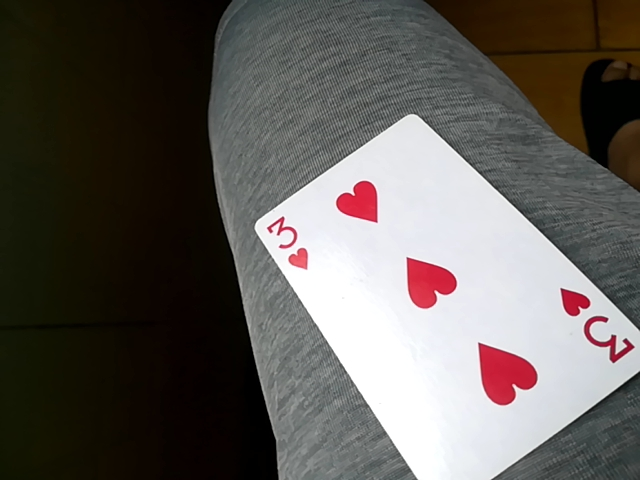hx 3: (250, 113, 634, 477)
